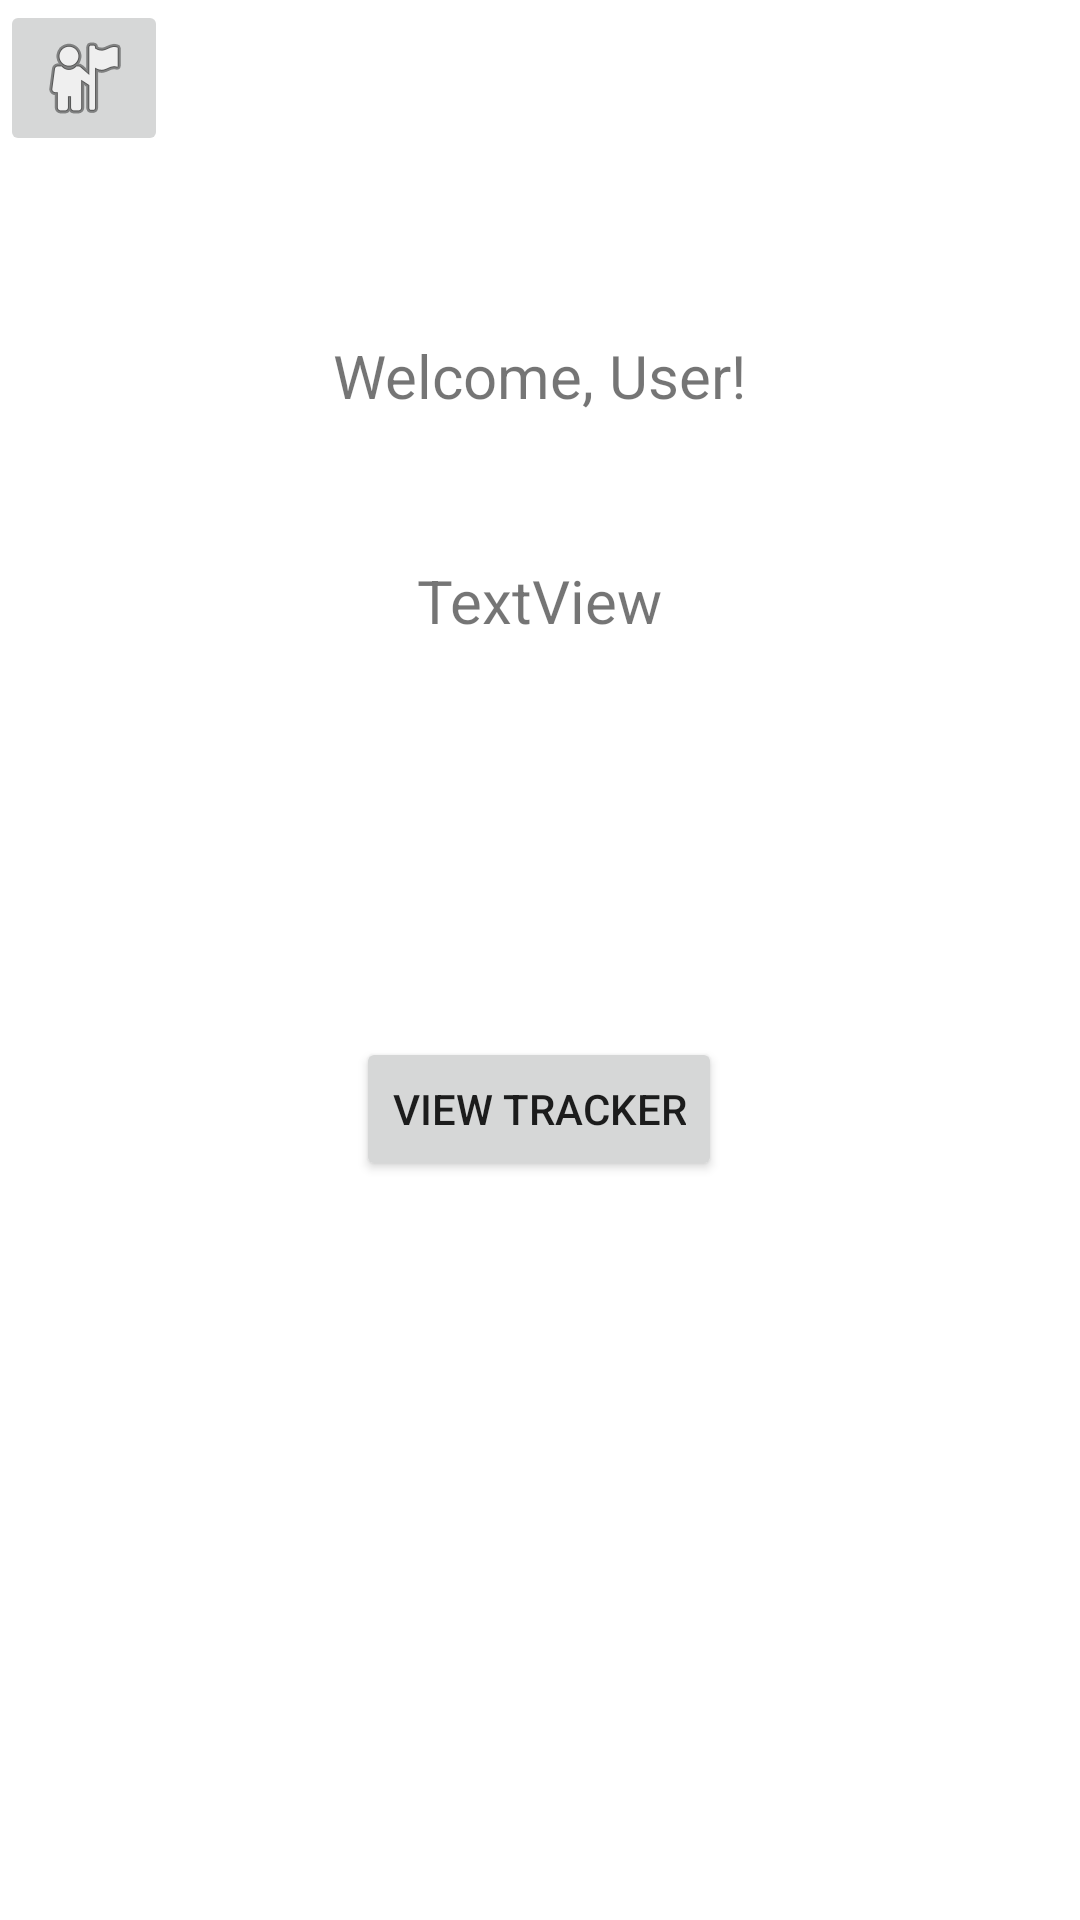

Screen size 1080 x 1920. Icon name, then its box in pixels as (x1, y1, x2, y2):
myplaces: (12, 18, 156, 138)
